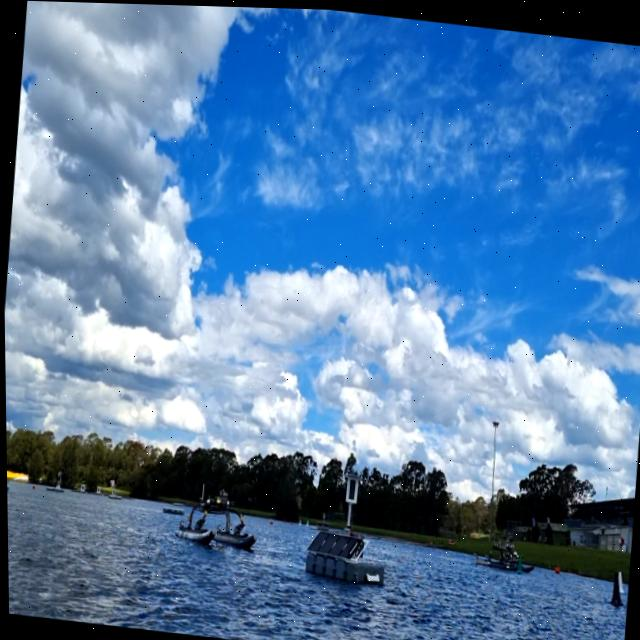led: (345, 476, 355, 499)
